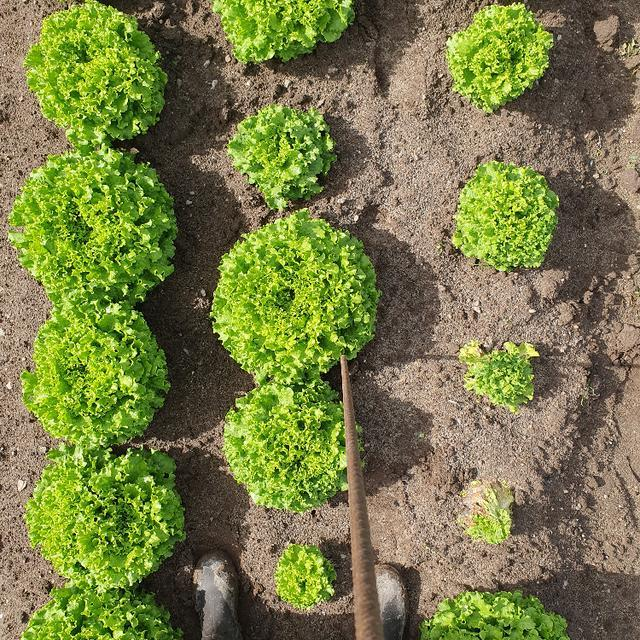Lettuce: (208, 208, 380, 378), (7, 145, 182, 308), (25, 442, 192, 593), (22, 298, 175, 448), (25, 0, 172, 145), (223, 377, 372, 515), (448, 158, 562, 272), (443, 2, 555, 113), (227, 102, 343, 208), (208, 0, 363, 71), (18, 578, 186, 640), (413, 583, 583, 640), (455, 333, 543, 417), (267, 537, 345, 610), (457, 482, 518, 546)
